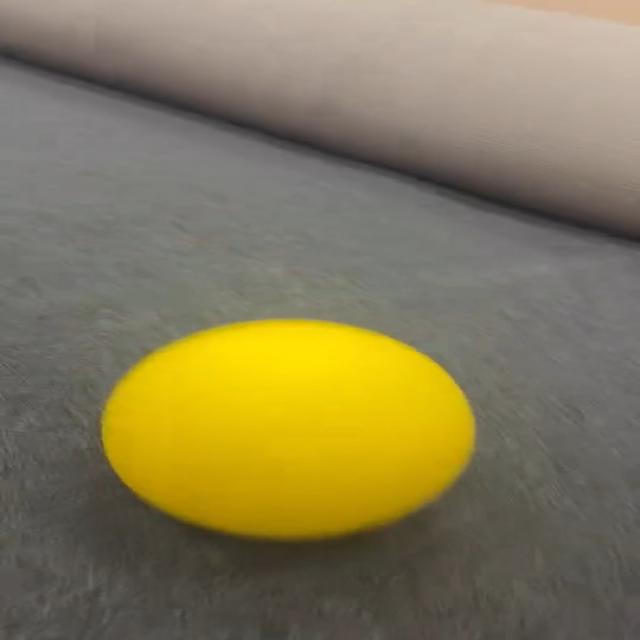Fuels: (100, 318, 474, 540)
